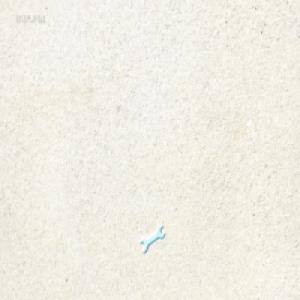Wrench: (140, 225, 165, 253)
